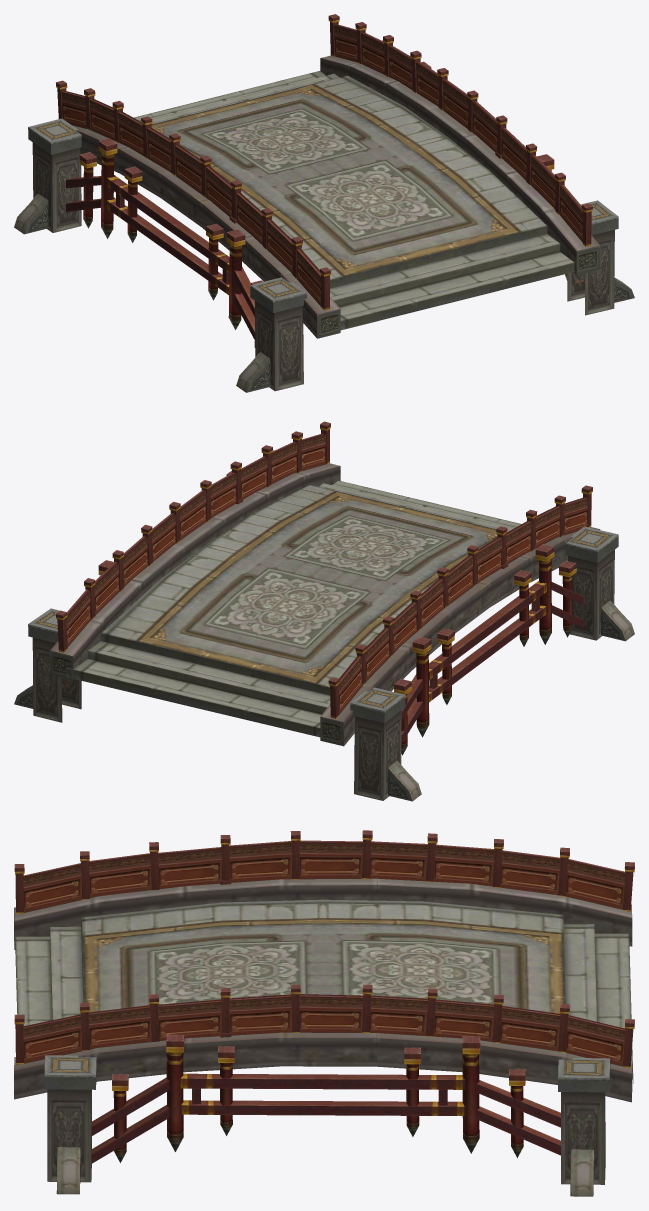
Rendered from Yland1_q_05 Yland1.FBX.
3 views of the same model, one above another, from view 1: azimuth 30°, elevation 25°; view 2: azimuth 150°, elevation 25°; view 3: azimuth 270°, elevation 25° (orthographic). The views are drawn at different scales.
Parts seen in each view (by area): view 1: Yland1_q_05 Yland1; view 2: Yland1_q_05 Yland1; view 3: Yland1_q_05 Yland1.
Boxes of the visible parts, bbox=[...] form: Yland1_q_05 Yland1: bbox=[14, 14, 634, 392]; Yland1_q_05 Yland1: bbox=[14, 421, 634, 801]; Yland1_q_05 Yland1: bbox=[14, 830, 634, 1196].
Size of the model in its own units: 12.43 by 4.41 by 14.22.
